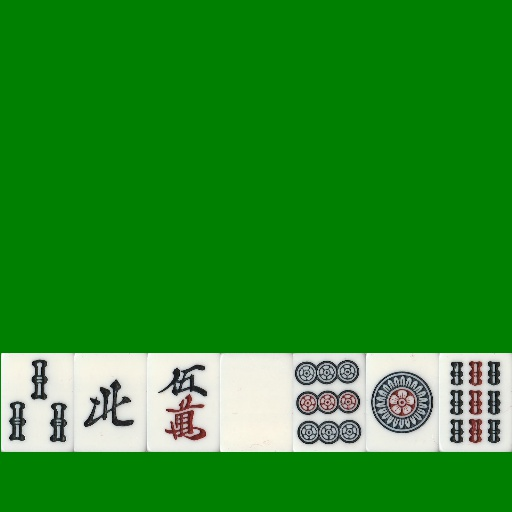1p: (366, 353, 439, 452)
3s: (1, 353, 74, 452)
5m: (147, 353, 220, 452)
9p: (293, 353, 366, 452)
9s: (439, 353, 512, 452)
north: (74, 353, 147, 452)
white: (220, 353, 293, 452)
